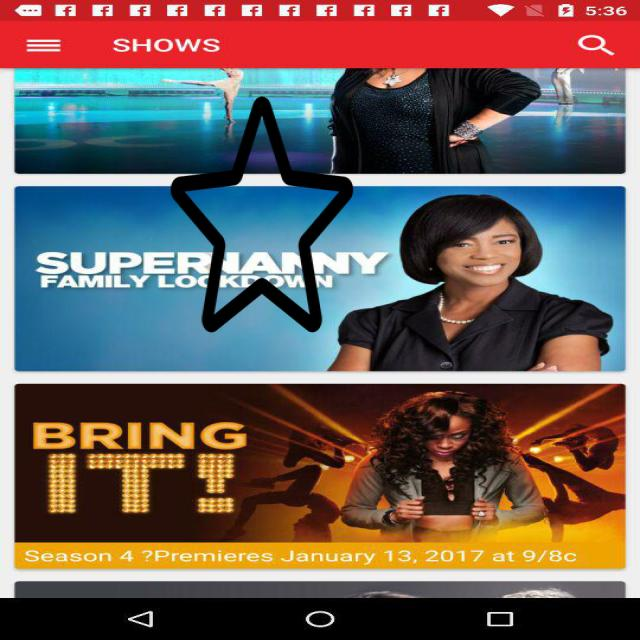forced continuity: (171, 91, 353, 338)
